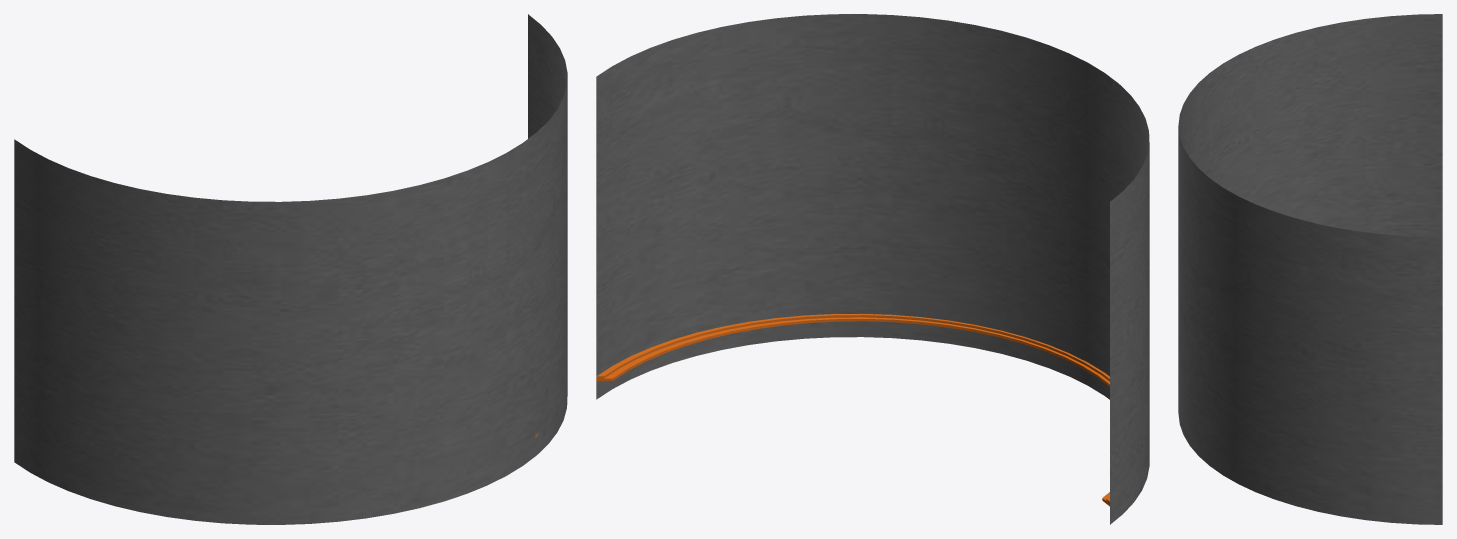
File: wall.glb
3 views of the same model, side by side, from view 1: azimuth 30°, elevation 25°; view 2: azimuth 150°, elevation 25°; view 3: azimuth 270°, elevation 25° (orthographic). The views are drawn at different scales.
Parts seen in each view (by area): view 1: Wall; view 2: Wall, Borduere; view 3: Wall.
Boxes of the visible parts, box(x1,y1,x2,y2) form: Wall: box(14, 14, 567, 524); Wall: box(596, 14, 1149, 524); Borduere: box(596, 313, 1109, 506); Wall: box(1178, 14, 1442, 524).
Bounding box in the file's own units: 10.7 × 6.43 × 5.35.
Materials: 2 (1 with a texture image).
